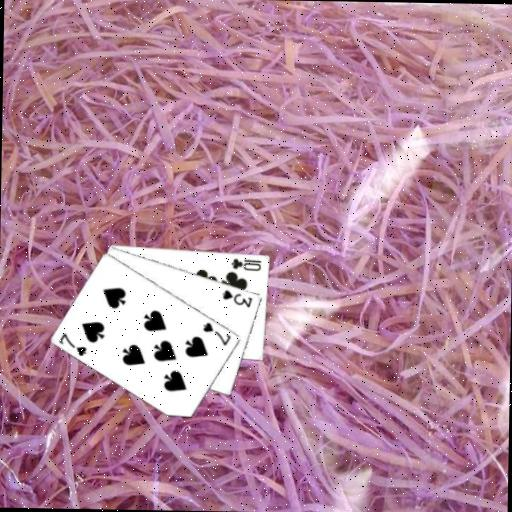10C: (228, 255, 263, 272)
3S: (220, 287, 254, 309)
7S: (200, 320, 233, 348), (56, 330, 89, 358)
